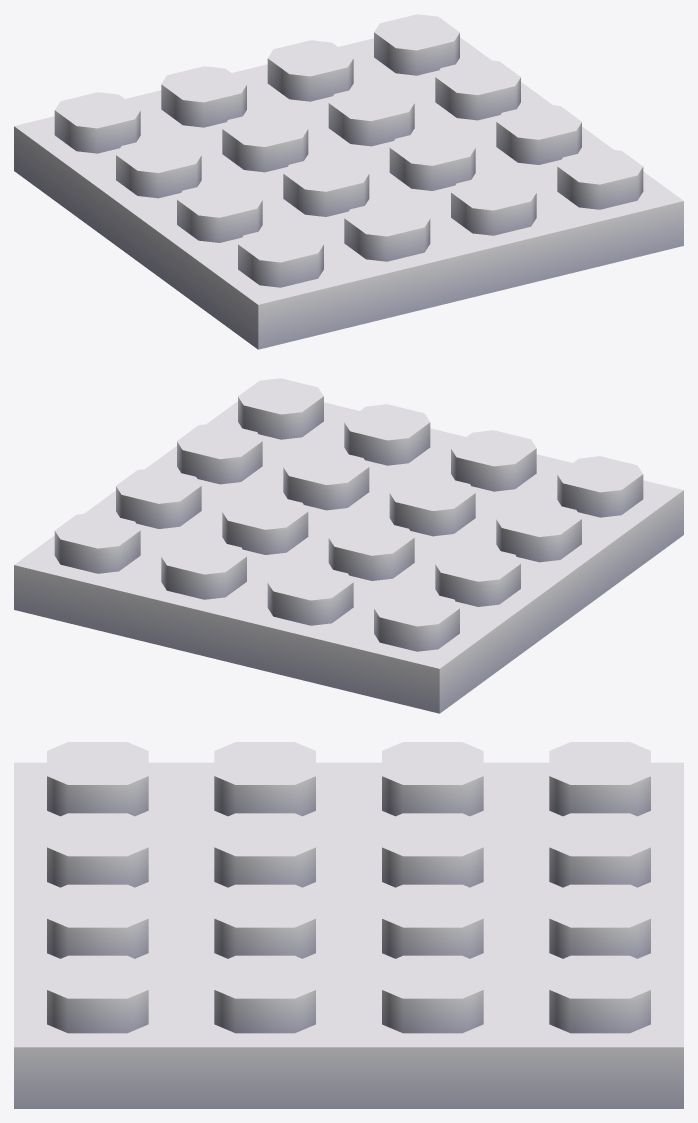
Rendered from kenney-brick-bevel-lq-plate-4-x-4.glb.
3 renders of one model, top to bottom at view 1: azimuth 30°, elevation 25°; view 2: azimuth 150°, elevation 25°; view 3: azimuth 270°, elevation 25°, orthographic. The views are drawn at different scales.
Parts seen in each view (by area): view 1: bevel-lq-plate-4x4; view 2: bevel-lq-plate-4x4; view 3: bevel-lq-plate-4x4.
Part boxes in pixels (x1,y1,x2,y2): bevel-lq-plate-4x4: [14, 14, 683, 349]; bevel-lq-plate-4x4: [14, 378, 683, 713]; bevel-lq-plate-4x4: [14, 742, 683, 1108].
Size of the model in its own units: 0.318 by 0.05 by 0.316.
1 material, 1 textured.
